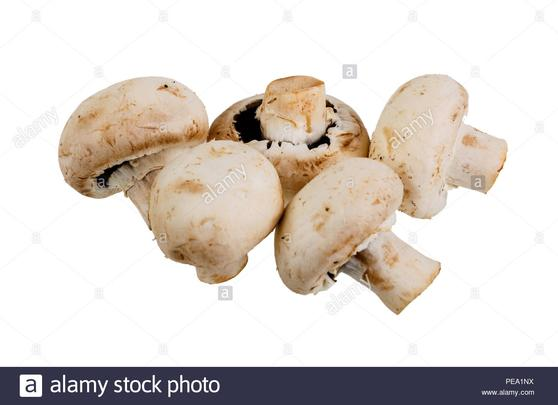champignon: (274, 156, 448, 310), (371, 74, 512, 220), (147, 137, 287, 275), (62, 78, 211, 186)
